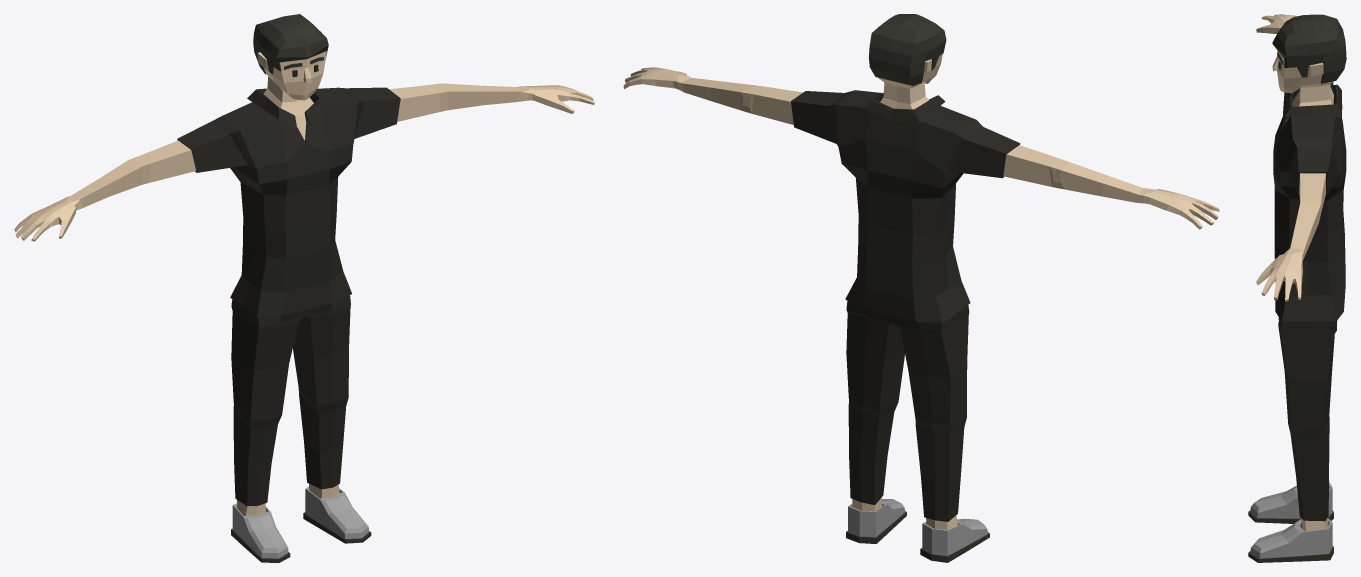
File: Player.fbx
3 renders of one model, left to right at view 1: azimuth 30°, elevation 25°; view 2: azimuth 150°, elevation 25°; view 3: azimuth 270°, elevation 25°, orthographic. The views are drawn at different scales.
Parts seen in each view (by area): view 1: Shirt, Pants, Head, R_Arm, L_Arm, L_Shoes, R_Shoes; view 2: Shirt, Pants, Head, R_Arm, L_Arm, R_Shoes, L_Shoes; view 3: Shirt, Pants, Head, L_Arm, L_Shoes, R_Shoes, R_Arm.
Boxes of the visible parts, x1,y1,x2,y2 form: Shirt: [177, 87, 400, 317]; Pants: [231, 295, 350, 515]; Head: [253, 14, 328, 140]; R_Arm: [14, 140, 195, 241]; L_Arm: [389, 83, 594, 121]; L_Shoes: [303, 486, 371, 543]; R_Shoes: [231, 503, 290, 562]; Shirt: [791, 90, 1020, 323]; Pants: [846, 300, 969, 529]; Head: [868, 14, 946, 109]; R_Arm: [1003, 145, 1219, 229]; L_Arm: [623, 67, 802, 124]; R_Shoes: [920, 518, 989, 562]; L_Shoes: [846, 499, 906, 543]; Shirt: [1273, 82, 1346, 321]; Pants: [1278, 317, 1337, 531]; Head: [1272, 14, 1346, 121]; L_Arm: [1256, 173, 1325, 301]; L_Shoes: [1248, 518, 1333, 562]; R_Shoes: [1248, 482, 1333, 523]; R_Arm: [1256, 14, 1296, 33].
Size of the model in its own units: 225 by 191 by 33.06.
